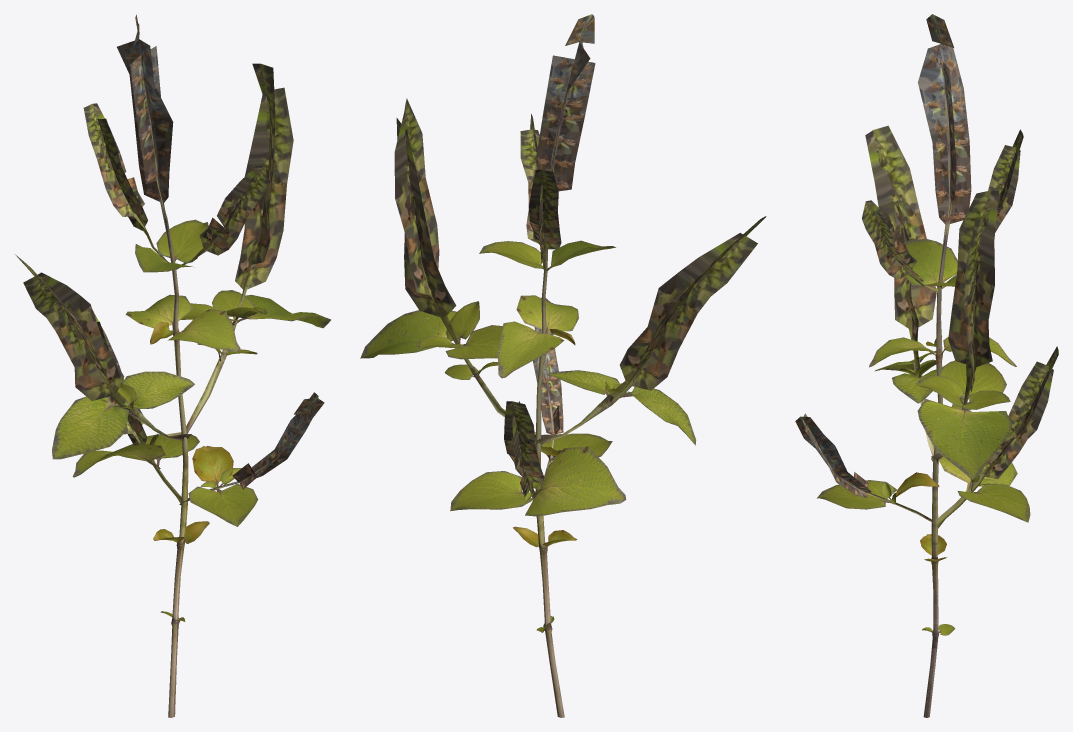
File: shrub_03_b.gltf
3 views of the same model, side by side, from view 1: azimuth 30°, elevation 25°; view 2: azimuth 150°, elevation 25°; view 3: azimuth 270°, elevation 25° (orthographic). The views are drawn at different scales.
Parts seen in each view (by area): view 1: shrub_03_b; view 2: shrub_03_b; view 3: shrub_03_b.
Part boxes in pixels (x1,y1,x2,y2): shrub_03_b: (15,14,330,717); shrub_03_b: (360,14,766,717); shrub_03_b: (795,14,1058,717).
Size of the model in its own units: 0.1843 by 0.3525 by 0.1226.
1 material, 1 textured.
